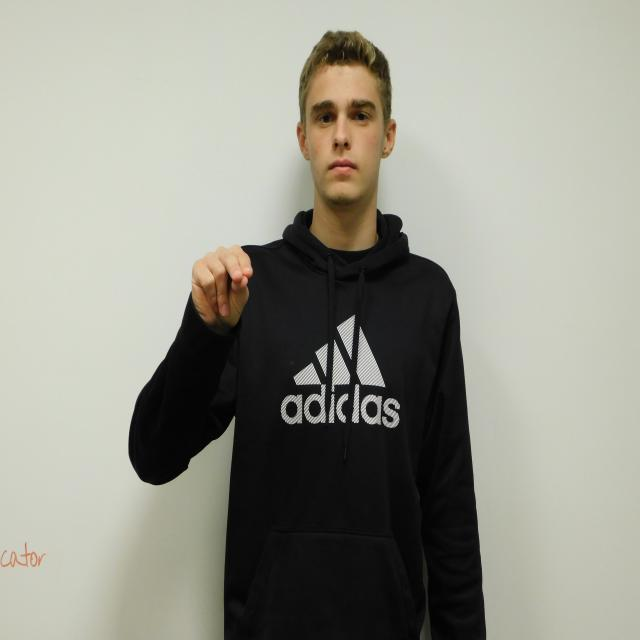no: (192, 244, 253, 326)
